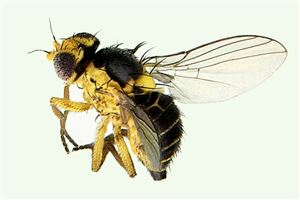Trifoli: (35, 24, 222, 180)
